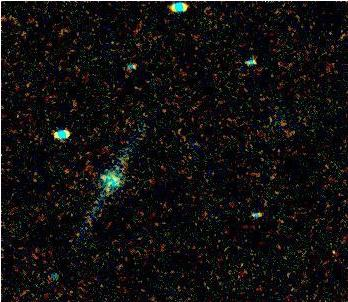star: (93, 172, 123, 202)
